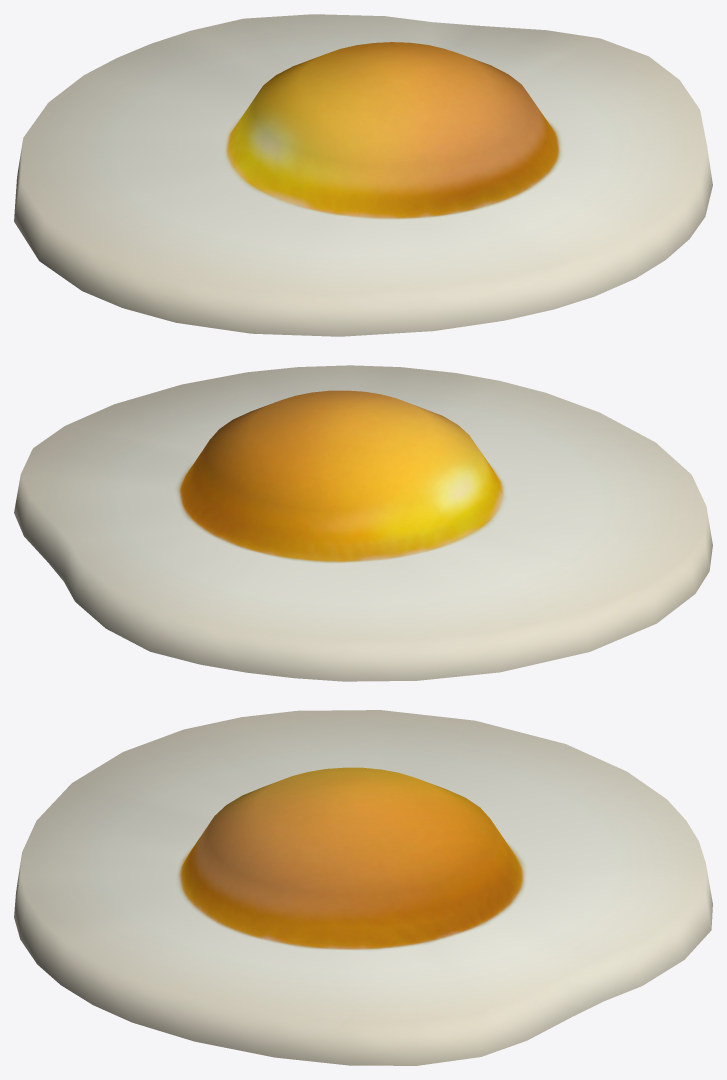
File: Fried Egg.fbx
The picture shows the model from 3 angles, top to bottom: view 1: azimuth 30°, elevation 25°; view 2: azimuth 150°, elevation 25°; view 3: azimuth 270°, elevation 25°; orthographic projection. The views are drawn at different scales.
Parts seen in each view (by area): view 1: FriedEgg_1; view 2: FriedEgg_1; view 3: FriedEgg_1.
Part boxes in pixels (x1=…): FriedEgg_1: x1=14, y1=14, x2=712, y2=336; FriedEgg_1: x1=14, y1=365, x2=712, y2=681; FriedEgg_1: x1=14, y1=710, x2=712, y2=1065.
Size of the model in its own units: 47.01 by 8.77 by 43.71.
1 material, 1 textured.
